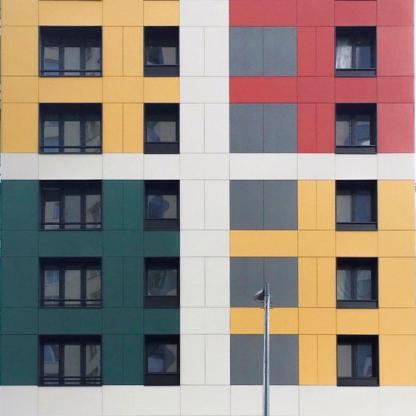Building Outline: (0, 1, 415, 415)
Dont: (252, 282, 274, 416)
Facade: (0, 1, 415, 415)
Floor: (1, 0, 415, 90), (1, 327, 415, 400), (1, 95, 415, 168), (1, 172, 415, 245), (1, 250, 415, 322)
Floor Slab: (1, 399, 415, 404), (1, 245, 415, 250), (1, 323, 415, 328), (1, 168, 415, 173), (1, 90, 415, 95)
Window: (39, 335, 102, 385), (39, 26, 102, 76), (39, 104, 102, 154), (39, 180, 102, 230), (39, 257, 102, 307), (336, 258, 378, 300), (336, 335, 377, 377), (335, 27, 376, 69), (335, 104, 376, 146), (336, 180, 377, 222), (144, 335, 179, 374), (144, 26, 179, 65), (144, 104, 179, 143), (144, 180, 179, 219), (144, 257, 179, 296)
